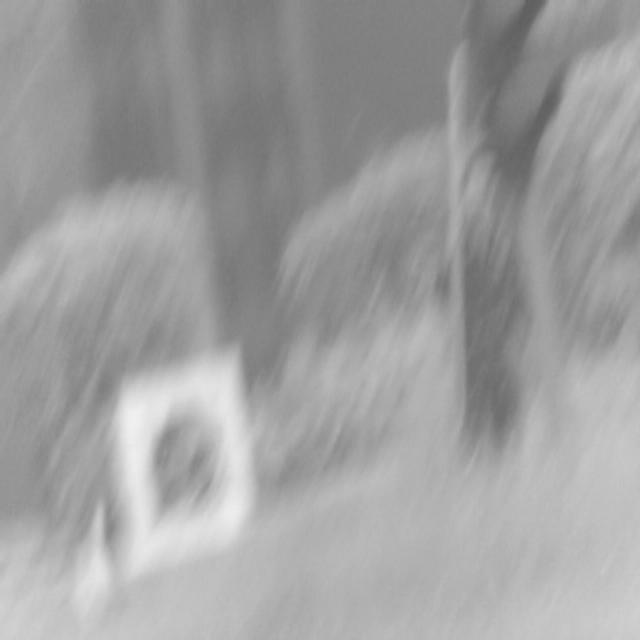bia: (133, 389, 235, 527)
